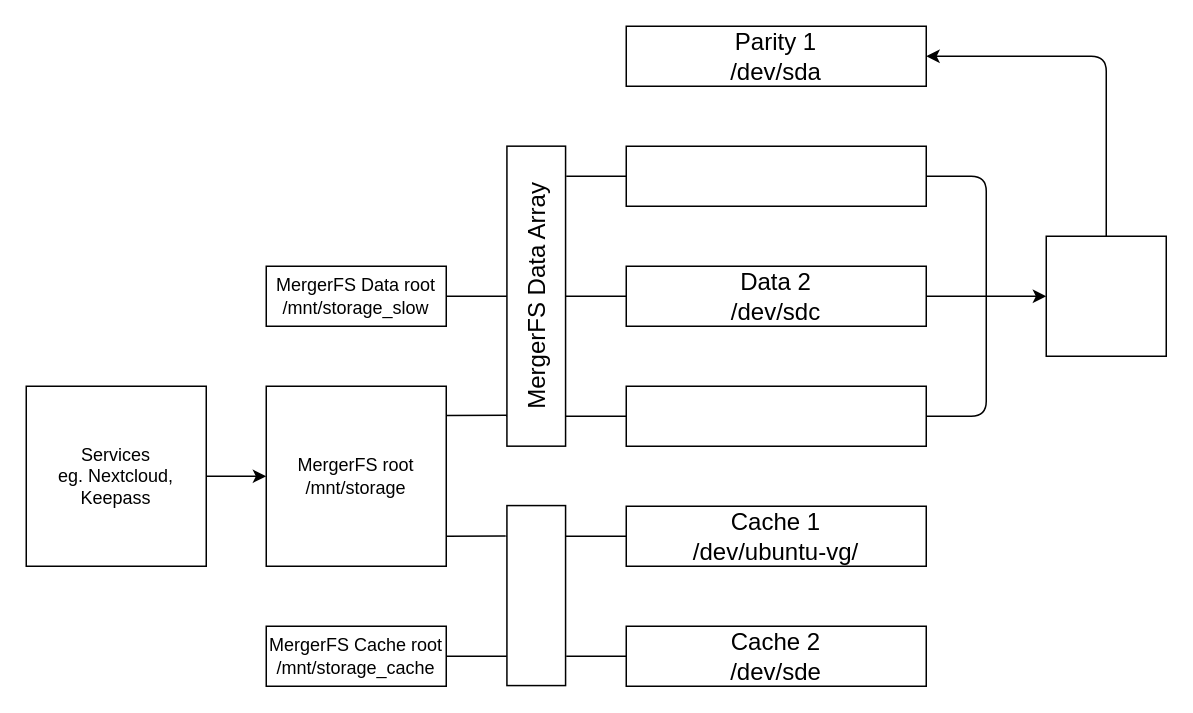
This 1193x713 diagram has some shape labels left out. Each missing label, with the centre of its shape:
"Data 1 /dev/sdb" belongs at pixel 775 175.
"Data 3 /dev/sdd" belongs at pixel 775 415.
"MergerFS Cache Array" belongs at pixel 536 595.
"Snapraid" belongs at pixel 1105 295.
